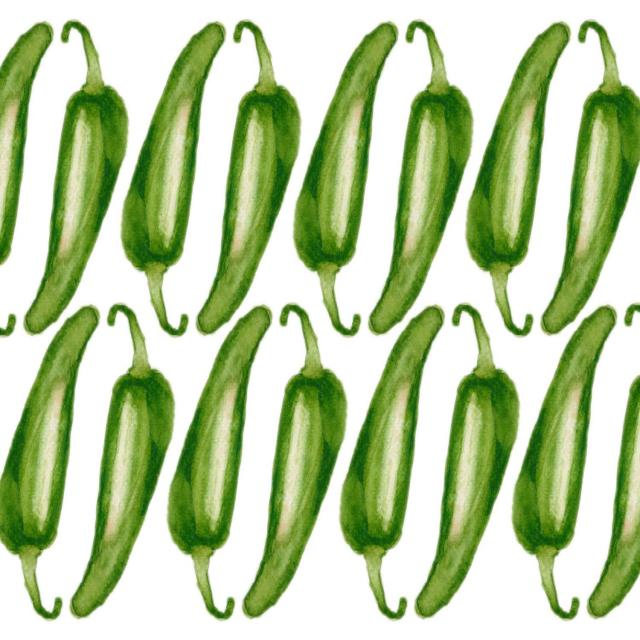aji: (1, 2, 626, 637), (120, 29, 230, 337), (19, 65, 127, 330)
